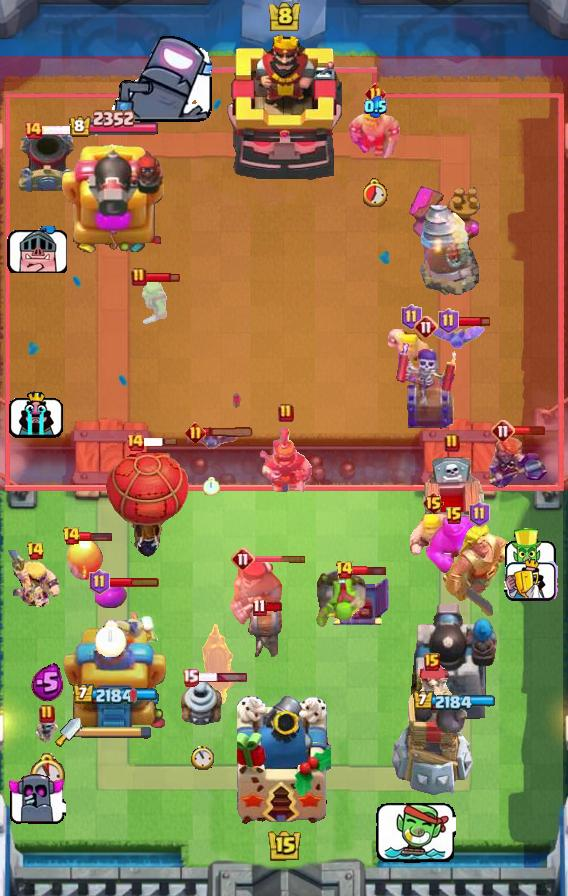archer: (347, 108, 403, 158), (385, 327, 437, 373), (410, 514, 456, 556)
arrows: (8, 549, 62, 606)
bar: (61, 615, 166, 731)
bar-level: (313, 568, 367, 630)
barbarian: (426, 323, 492, 351)
barbarian-barrel: (182, 430, 240, 450)
cannon-cart: (105, 439, 191, 557)
earthquake: (259, 427, 313, 497)
electro-spirit: (31, 663, 65, 702), (365, 95, 388, 118)
elixir: (27, 753, 67, 795), (95, 620, 127, 657), (364, 178, 389, 207), (191, 745, 214, 770), (203, 477, 220, 496)
elixir-golem-mid: (417, 456, 487, 542)
emote: (107, 576, 160, 588), (41, 124, 94, 135), (203, 427, 255, 438), (196, 672, 248, 683), (253, 553, 307, 563), (456, 315, 492, 329), (352, 564, 387, 577), (144, 271, 179, 283), (78, 530, 114, 541), (512, 425, 546, 436), (142, 437, 178, 447), (264, 601, 283, 613)
goblin-ball: (198, 613, 234, 707)
goblin-drill: (179, 673, 225, 727)
goblin-hut: (441, 524, 517, 620)
heal-spirit: (128, 610, 162, 646), (34, 715, 60, 745)
hog: (64, 538, 104, 582)
ice-spirit-evolution-symbol: (327, 574, 391, 628)
king-tower: (226, 33, 342, 181), (237, 696, 331, 826)
king-tower-bar: (81, 725, 153, 739)
knight: (246, 604, 296, 660)
magic-archer: (419, 204, 479, 296)
miner: (95, 578, 127, 608)
musketeer: (16, 128, 78, 196)
phoenix-small: (226, 557, 286, 629)
selected: (68, 110, 160, 139), (71, 684, 156, 706), (413, 691, 496, 713)
skeleton: (108, 36, 212, 126), (375, 799, 456, 864), (6, 771, 66, 825), (503, 528, 559, 582), (8, 389, 64, 440), (5, 227, 66, 273), (505, 558, 560, 601)
skeleton-king-bar: (395, 340, 457, 432)
tesla-evolution: (486, 433, 550, 491)
text: (414, 315, 438, 339), (491, 419, 515, 443), (231, 547, 255, 571), (423, 491, 446, 515), (401, 304, 422, 330), (437, 308, 458, 334), (469, 501, 490, 527), (89, 569, 110, 595), (185, 421, 206, 443), (366, 84, 387, 105), (23, 120, 43, 140), (125, 432, 145, 452), (63, 526, 82, 546), (26, 541, 45, 561), (335, 560, 354, 580), (445, 506, 463, 526), (181, 668, 199, 687), (131, 267, 147, 287), (278, 403, 294, 423), (444, 433, 460, 453), (39, 704, 55, 724), (424, 653, 440, 671), (252, 598, 267, 617)
tornado: (426, 516, 482, 574)
tower-bar: (60, 138, 168, 256), (408, 599, 498, 731)
zap: (132, 278, 170, 326)
zappy: (388, 660, 475, 798)
